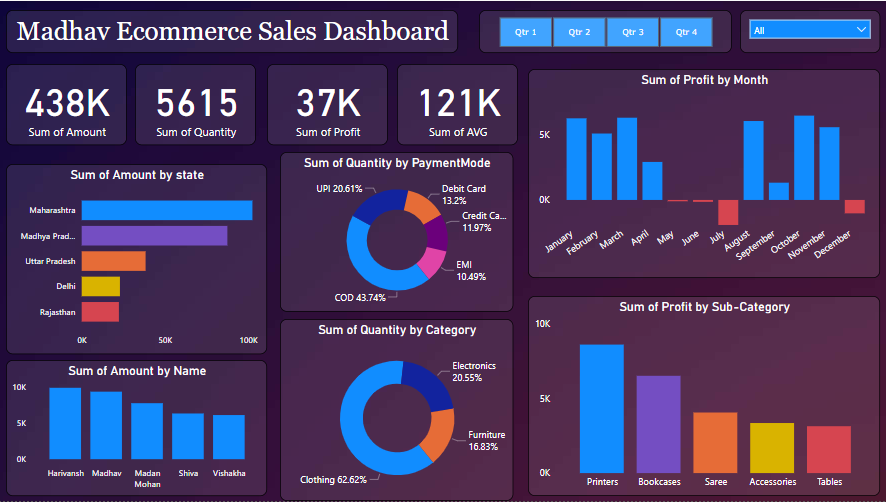

Layout of this report page (visuals, bound fields, positions):
{"tool":"powerbi","page":{"name":"Page 1","canvas":[1280,720],"ordinal":0},"visuals":[{"type":"columnChart","fields":{"Category":["Orders.Column2.Variation.Date Hierarchy.Month"],"Y":["Details.Profit"]},"box":[763.2,97.9,506.9,301],"z":0},{"type":"textbox","box":[11.5,13,650.9,61.9],"z":1000},{"type":"columnChart","fields":{"Category":["Details.Sub-Category"],"Y":["Details.Profit"]},"box":[763.2,424.8,506.9,288],"z":2000},{"type":"donutChart","fields":{"Y":["Details.Quantity"],"Category":["Details.Category"]},"box":[406.1,457.9,335.5,262.1],"z":3000},{"type":"donutChart","fields":{"Category":["Details.PaymentMode"],"Y":["Details.Quantity"]},"box":[406.1,217.4,335.5,230.4],"z":4000},{"type":"card","fields":{"Values":["Details.Amount"]},"box":[11.5,90.7,174.2,116.6],"z":5000},{"type":"card","fields":{"Values":["Details.Quantity"]},"box":[197.3,90.7,174.2,116.6],"z":6000},{"type":"card","fields":{"Values":["Details.Profit"]},"box":[387.4,90.7,174.2,116.6],"z":7000},{"type":"card","fields":{"Values":["Details.AVG"]},"box":[574.6,90.7,174.2,116.6],"z":8000},{"type":"barChart","fields":{"Category":["Orders.state"],"Y":["Details.Amount"]},"box":[11.5,234.7,375.8,273.6],"z":9000},{"type":"columnChart","fields":{"Category":["Orders.Name"],"Y":["Details.Amount"]},"box":[11.5,517,375.8,195.8],"z":10000},{"type":"slicer","fields":{"Values":["Orders.Order Date.Variation.Date Hierarchy.Quarter"]},"box":[692.6,13,364.3,61.9],"z":11000},{"type":"slicer","fields":{"Values":["Orders.state"]},"box":[1068.5,13,201.6,61.9],"z":12000}]}

Visuals, with their boxes in screenshot pixels (x1, y1, x2, y2), scaled from the page's 1280x720 canvas onto the 886x502 screenshot:
columnChart - Orders.Column2.Variation.Date Hierarchy.Month x Details.Profit: bbox=(528, 68, 879, 278)
textbox: bbox=(8, 9, 459, 52)
columnChart - Details.Sub-Category x Details.Profit: bbox=(528, 296, 879, 497)
donutChart - Details.Quantity x Details.Category: bbox=(281, 319, 513, 501)
donutChart - Details.PaymentMode x Details.Quantity: bbox=(281, 152, 513, 312)
card - Details.Amount: bbox=(8, 63, 129, 145)
card - Details.Quantity: bbox=(137, 63, 257, 145)
card - Details.Profit: bbox=(268, 63, 389, 145)
card - Details.AVG: bbox=(398, 63, 518, 145)
barChart - Orders.state x Details.Amount: bbox=(8, 164, 268, 354)
columnChart - Orders.Name x Details.Amount: bbox=(8, 360, 268, 497)
slicer - Orders.Order Date.Variation.Date Hierarchy.Quarter: bbox=(479, 9, 732, 52)
slicer - Orders.state: bbox=(740, 9, 879, 52)
